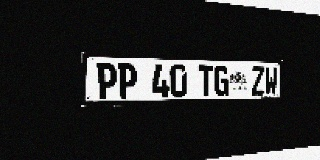0: (170, 64, 187, 97)
4: (152, 64, 169, 98)
G: (214, 65, 229, 96)
P: (96, 62, 117, 99), (118, 63, 137, 99)
T: (198, 65, 214, 97)
W: (265, 67, 277, 95)
Z: (251, 66, 264, 95)
